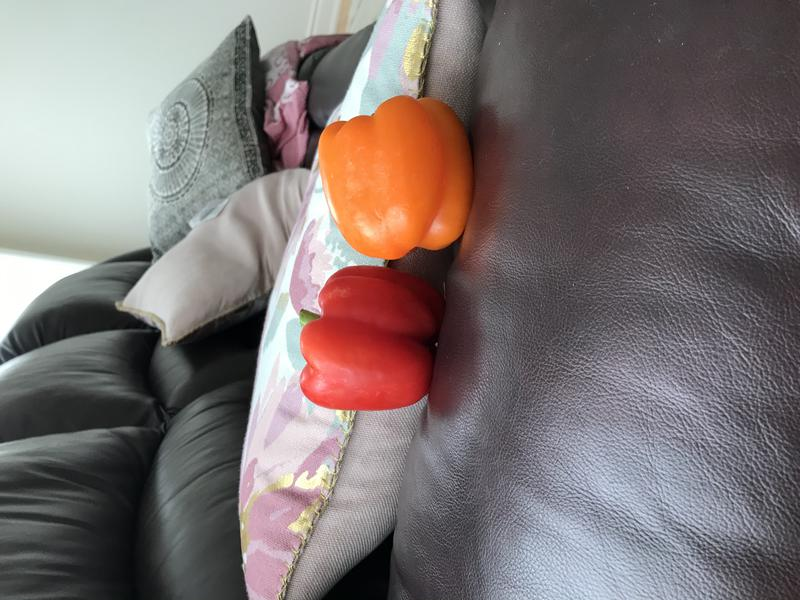orange_pepper: (312, 90, 494, 261)
red_pepper: (289, 265, 449, 418)
